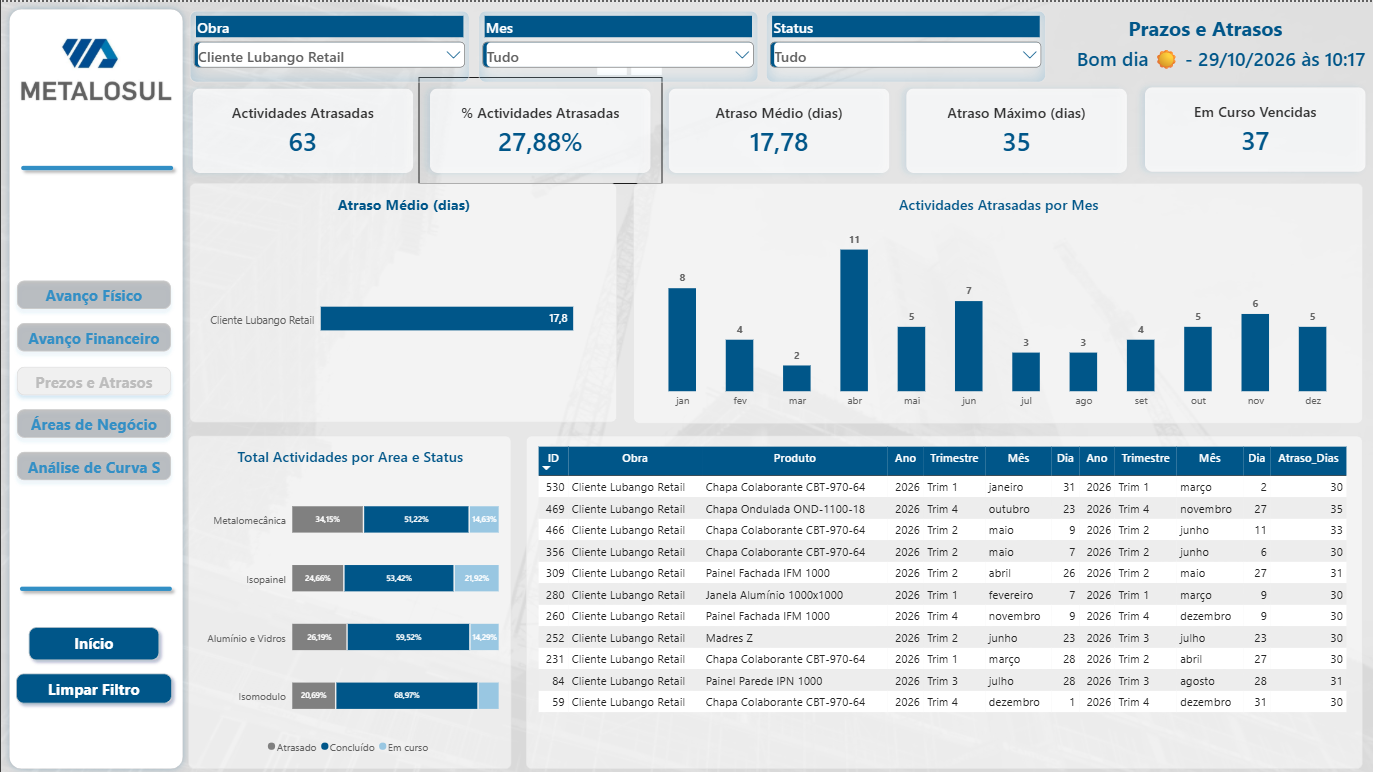

What the dashboard file says about the page in this screenshot:
{"tool":"powerbi","page":{"name":"Prazos e Atrasos","canvas":[1920,1080],"ordinal":2},"visuals":[{"type":"shape","box":[2,0,262,1080],"z":0},{"type":"image","box":[24.6,37.7,216.2,102.3],"z":1000},{"type":"cardVisual","fields":{"Data":["Fact_Producao.Saudação"]},"box":[1445.7,58.6,468,52],"z":2000,"group":"g1"},{"type":"actionButton","box":[12.4,378,235,60],"z":2000},{"type":"shape","box":[18.3,186.7,230,90],"z":3000},{"type":"actionButton","box":[12.4,438,235,60],"z":4000},{"type":"actionButton","box":[12,498,235,60],"z":5000},{"type":"actionButton","box":[12.4,558,235,60],"z":6000},{"type":"actionButton","box":[12.4,618,235,60],"z":7000},{"type":"shape","box":[17.7,774.6,230,88.8],"z":8000},{"type":"actionButton","box":[29.9,864,200,64],"z":9000},{"type":"actionButton","box":[12.4,928,235,60],"z":10000},{"type":"cardVisual","fields":{"Data":["Fact_Producao.Actividades Atrasadas"]},"box":[251.2,104,340,150],"z":11000},{"type":"cardVisual","fields":{"Data":["Fact_Producao.Atraso Máximo (dias)"]},"box":[1247.8,104,340,150],"z":12000},{"type":"cardVisual","fields":{"Data":["Fact_Producao.% Actividades Atrasadas"]},"box":[583.4,104,340,150],"z":13000},{"type":"cardVisual","fields":{"Data":["Fact_Producao.Atraso Médio (dias)"]},"box":[915.6,104,340,150],"z":14000},{"type":"cardVisual","fields":{"Data":["Fact_Producao.Em Curso Vencidas"]},"box":[1580,103.3,340,150],"z":15000},{"type":"slicer","fields":{"Values":["Dim_Obras.Nome_Obra"]},"box":[264,12,390,100],"z":16000},{"type":"slicer","fields":{"Values":["Dim_Datas.Mes"]},"box":[665.5,12,390,100],"z":17000},{"type":"slicer","fields":{"Values":["Fact_Producao.Status"]},"box":[1068,12,390,100],"z":18000},{"type":"group","id":"g1","title":"Grupo 1","box":[1445.7,14.3,468.6,95.7],"z":19000},{"type":"shape","box":[1457.1,14.3,444.4,43.3],"z":19001,"group":"g1"},{"type":"barChart","title":"Atraso Médio (dias)","fields":{"Category":["Dim_Obras.Nome_Obra"],"Y":["Fact_Producao.Atraso Médio (dias)"]},"box":[263.8,253.8,596.2,333.8],"z":20000},{"type":"columnChart","fields":{"Category":["Dim_Datas.Mes"],"Y":["Fact_Producao.Actividades Atrasadas"]},"box":[882.5,252.5,1017.5,335],"z":21000},{"type":"hundredPercentStackedBarChart","fields":{"Category":["Dim_Produtos.Area"],"Series":["Fact_Producao.Status"],"Y":["Fact_Producao.Total Actividades"]},"box":[262.5,605,450,465],"z":22000},{"type":"tableEx","fields":{"Values":["Sum(Fact_Producao.ID_Actividade)","Dim_Obras.Nome_Obra","Dim_Produtos.Produto","Fact_Producao.Data_Fim_Prev.Variação.Hierarquia de Datas.Ano","Fact_Producao.Data_Fim_Prev.Variação.Hierarquia de Datas.Trimestre","Fact_Producao.Data_Fim_Prev.Variação.Hierarquia de Datas.Mês","Fact_Producao.Data_Fim_Prev.Variação.Hierarquia de Datas.Dia","Fact_Producao.Data_Fim _Real.Variação.Hierarquia de Datas.Ano","Fact_Producao.Data_Fim _Real.Variação.Hierarquia de Datas.Trimestre","Fact_Producao.Data_Fim _Real.Variação.Hierarquia de Datas.Mês","Fact_Producao.Data_Fim _Real.Variação.Hierarquia de Datas.Dia","Sum(Fact_Producao.Atraso_Dias)"]},"box":[732.5,605,1167.5,465],"z":23000}]}

Visuals, with their boxes in screenshot pixels (x1, y1, x2, y2), scaled from the page's 1920x1080 canvas onto the 1373x772 screenshot:
shape: crop(1, 0, 189, 771)
image: crop(18, 27, 172, 100)
cardVisual - Fact_Producao.Saudação: crop(1034, 42, 1368, 79)
actionButton: crop(9, 270, 177, 313)
shape: crop(13, 133, 178, 198)
actionButton: crop(9, 313, 177, 356)
actionButton: crop(9, 356, 177, 399)
actionButton: crop(9, 399, 177, 442)
actionButton: crop(9, 442, 177, 485)
shape: crop(13, 554, 177, 617)
actionButton: crop(21, 618, 164, 663)
actionButton: crop(9, 663, 177, 706)
cardVisual - Fact_Producao.Actividades Atrasadas: crop(180, 74, 423, 182)
cardVisual - Fact_Producao.Atraso Máximo (dias): crop(892, 74, 1135, 182)
cardVisual - Fact_Producao.% Actividades Atrasadas: crop(417, 74, 660, 182)
cardVisual - Fact_Producao.Atraso Médio (dias): crop(655, 74, 898, 182)
cardVisual - Fact_Producao.Em Curso Vencidas: crop(1130, 74, 1372, 181)
slicer - Dim_Obras.Nome_Obra: crop(189, 9, 468, 80)
slicer - Dim_Datas.Mes: crop(476, 9, 755, 80)
slicer - Fact_Producao.Status: crop(764, 9, 1043, 80)
"Grupo 1" group: crop(1034, 10, 1369, 79)
shape: crop(1042, 10, 1360, 41)
"Atraso Médio (dias)" barChart: crop(189, 181, 615, 420)
columnChart - Dim_Datas.Mes x Fact_Producao.Actividades Atrasadas: crop(631, 180, 1359, 420)
hundredPercentStackedBarChart - Dim_Produtos.Area x Fact_Producao.Status: crop(188, 432, 510, 765)
tableEx - Sum(Fact_Producao.ID_Actividade) x Dim_Obras.Nome_Obra: crop(524, 432, 1359, 765)
